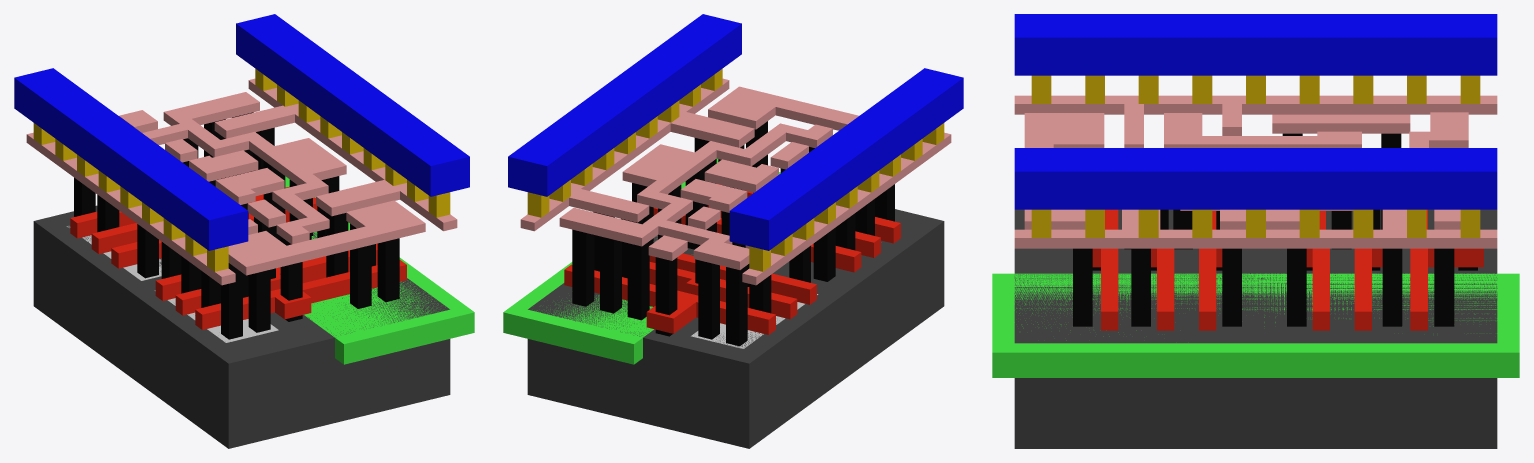
File: sky130_fd_sc_hd__o221a_1.obj
3 views of the same model, side by side, from view 1: azimuth 30°, elevation 25°; view 2: azimuth 150°, elevation 25°; view 3: azimuth 270°, elevation 25° (orthographic). The views are drawn at different scales.
Visible parts, largest first — view 1: subs, metal1, li, licon, nwell, poly, mcon, diff; view 2: subs, metal1, li, licon, poly, nwell, mcon, diff; view 3: subs, metal1, li, nwell, licon, poly, mcon.
Part boxes in pixels (x1,y1,x2,y2): subs: [33, 205, 450, 448]; metal1: [14, 14, 469, 250]; li: [26, 78, 457, 285]; licon: [74, 112, 399, 339]; nwell: [285, 176, 474, 364]; poly: [70, 186, 406, 329]; mcon: [33, 68, 450, 271]; diff: [66, 226, 278, 342]; subs: [527, 209, 944, 448]; metal1: [508, 14, 963, 250]; li: [520, 78, 951, 285]; licon: [572, 121, 894, 346]; poly: [564, 184, 900, 334]; nwell: [503, 159, 780, 364]; mcon: [527, 68, 944, 271]; diff: [691, 294, 818, 348]; subs: [1014, 209, 1497, 448]; metal1: [1014, 14, 1497, 209]; li: [1014, 95, 1497, 248]; nwell: [992, 273, 1519, 377]; licon: [1073, 133, 1477, 326]; poly: [1092, 209, 1483, 330]; mcon: [1031, 75, 1480, 237].
Bounding box in the file's own units: 3.2 × 2.74 × 4.52.
